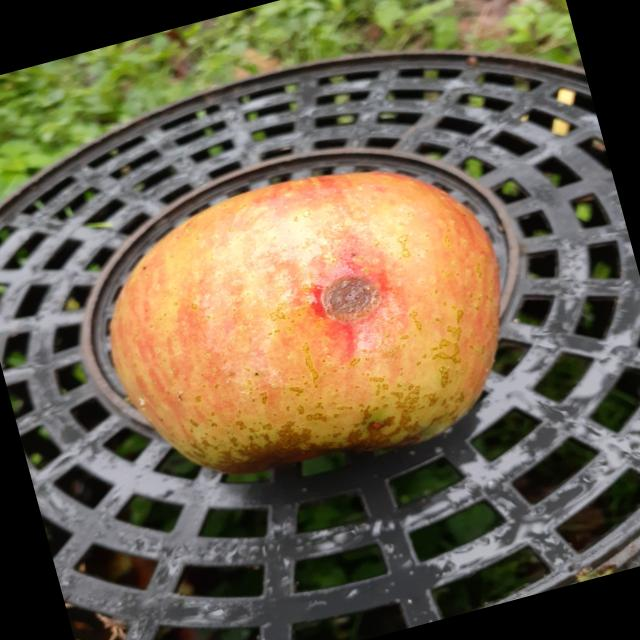rotten: (71, 124, 553, 534)
